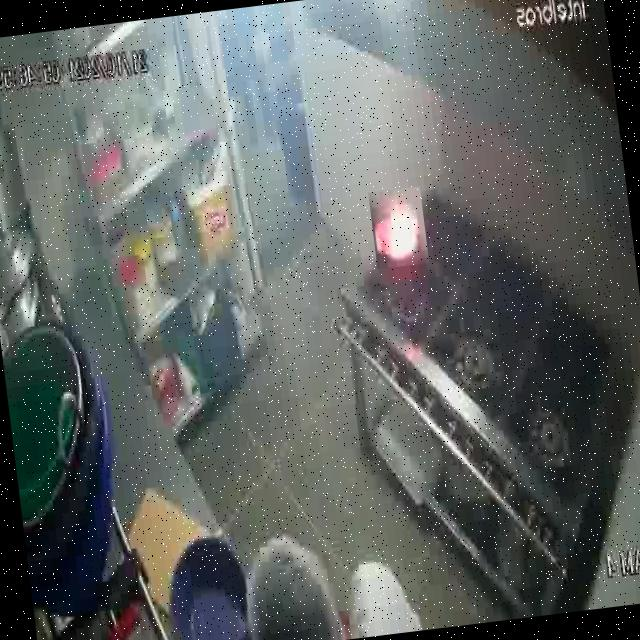fire: (368, 186, 429, 269)
